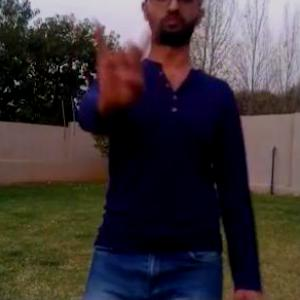takeoff-hand: (88, 6, 163, 113)
